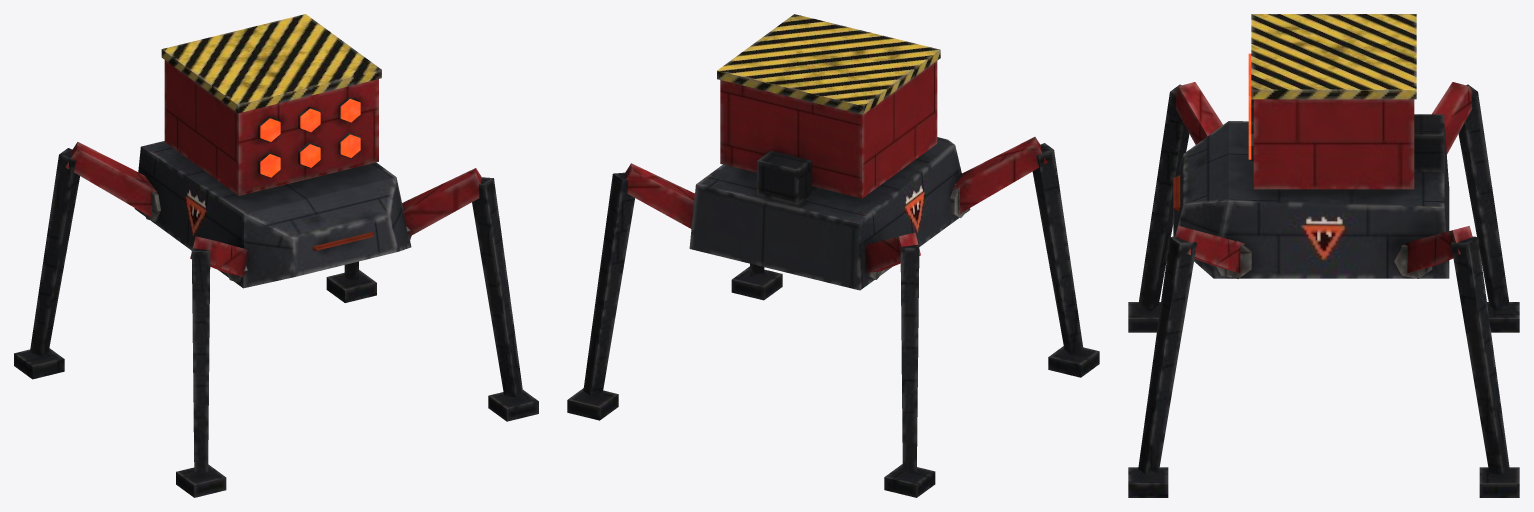
Rendered from u_havoc1_e.glb.
3 views of the same model, side by side, from view 1: azimuth 30°, elevation 25°; view 2: azimuth 150°, elevation 25°; view 3: azimuth 270°, elevation 25° (orthographic). The views are drawn at different scales.
Parts seen in each view (by area): view 1: u_havoc1_e; view 2: u_havoc1_e; view 3: u_havoc1_e.
Boxes of the visible parts, x1,y1,x2,y2 form: u_havoc1_e: [14, 14, 538, 497]; u_havoc1_e: [567, 14, 1099, 497]; u_havoc1_e: [1128, 14, 1519, 497].
Size of the model in its own units: 1.81 by 1.64 by 1.64.
Materials: 1 (1 with a texture image).
